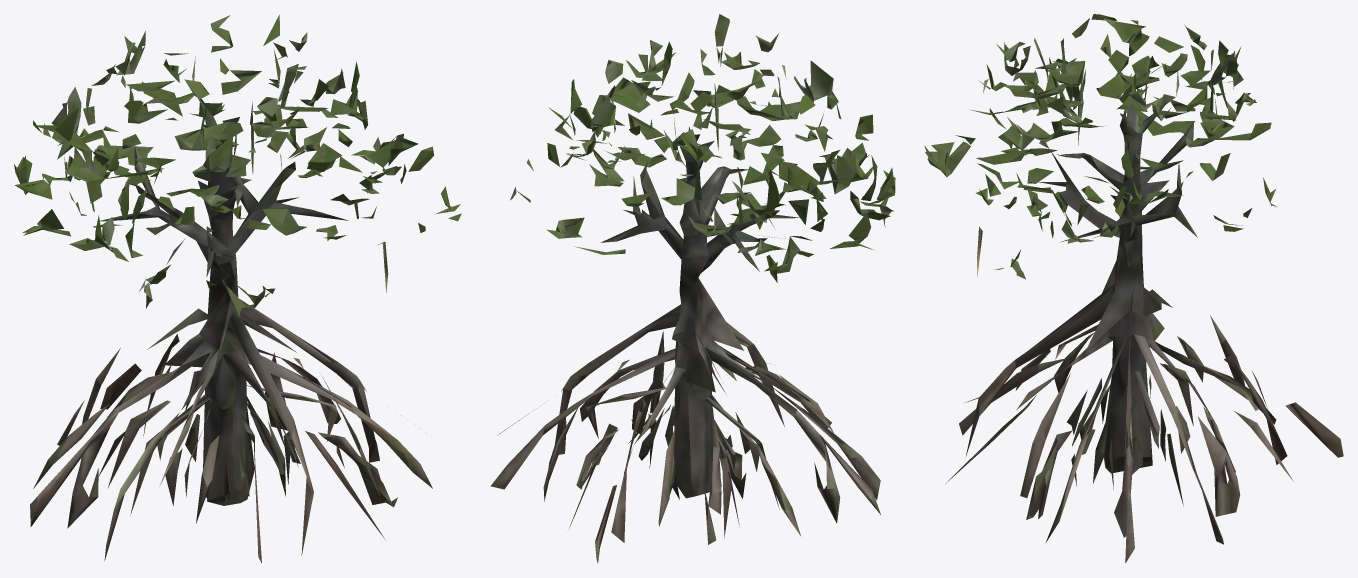
File: mangrove_lod2.glb
3 views of the same model, side by side, from view 1: azimuth 30°, elevation 25°; view 2: azimuth 150°, elevation 25°; view 3: azimuth 270°, elevation 25° (orthographic). The views are drawn at different scales.
Parts seen in each view (by area): view 1: tripo_node_0e2e4e08-e34e-46fe-a07d-3750f44d2512; view 2: tripo_node_0e2e4e08-e34e-46fe-a07d-3750f44d2512; view 3: tripo_node_0e2e4e08-e34e-46fe-a07d-3750f44d2512.
Part boxes in pixels (x1,y1,x2,y2): tripo_node_0e2e4e08-e34e-46fe-a07d-3750f44d2512: (14, 14, 461, 563); tripo_node_0e2e4e08-e34e-46fe-a07d-3750f44d2512: (491, 14, 895, 562); tripo_node_0e2e4e08-e34e-46fe-a07d-3750f44d2512: (924, 14, 1343, 563).
Bounding box in the file's own units: 0.9128 × 0.9843 × 0.8528.
1 material, 1 textured.
